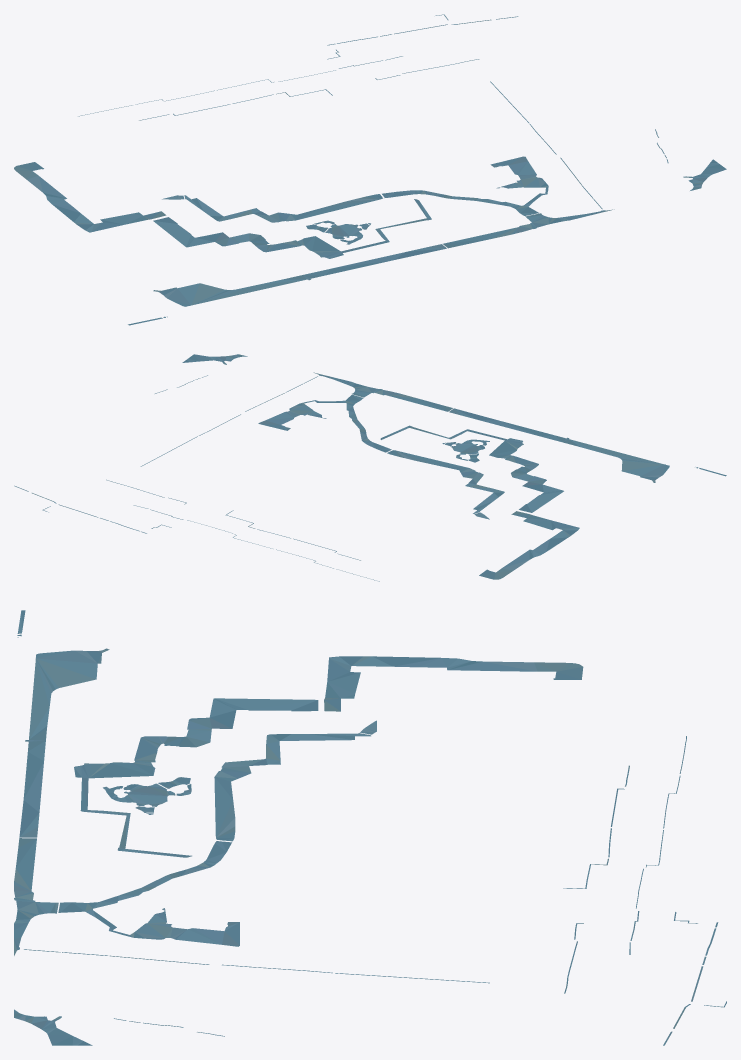
File: ART_EastHikoneWater.glb
The picture shows the model from 3 angles, top to bottom: view 1: azimuth 30°, elevation 25°; view 2: azimuth 150°, elevation 25°; view 3: azimuth 270°, elevation 25°; orthographic projection. The views are drawn at different scales.
Parts seen in each view (by area): view 1: ART_EastHikoneWater; view 2: ART_EastHikoneWater; view 3: ART_EastHikoneWater.
Boxes of the visible parts, left/top/right/bottom form: ART_EastHikoneWater: left=14, top=14, right=726, bottom=325; ART_EastHikoneWater: left=14, top=354, right=726, bottom=581; ART_EastHikoneWater: left=14, top=610, right=726, bottom=1045.
Bounding box in the file's own units: 1480 × 0 × 1025.
